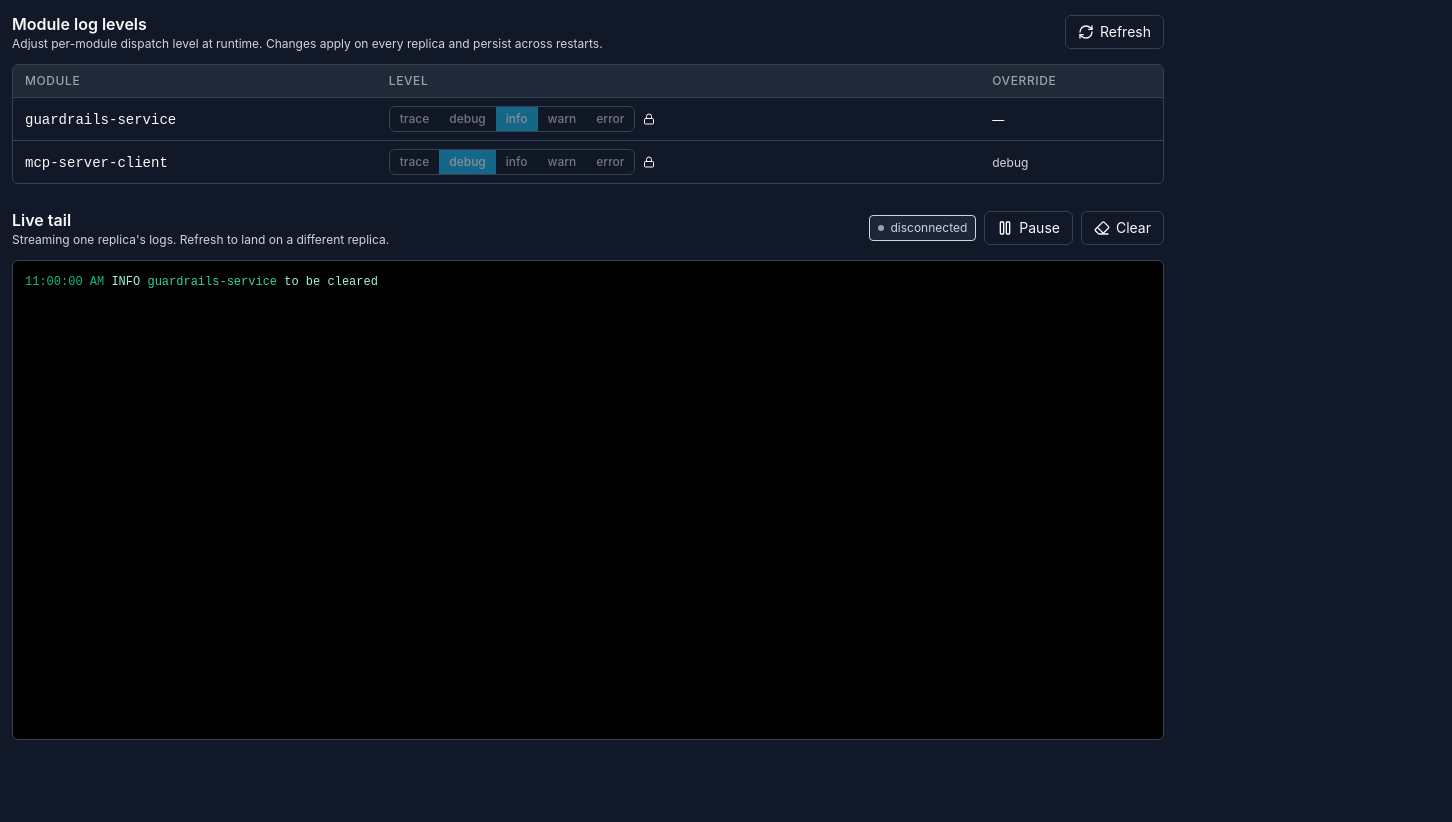
Test: SystemLogsPane › clear button empties the viewport without closing the socket
The image size is (1452, 822).
Expected: the text "to be cleared" is shown, 284,275 -> 378,289
Click the button with test id "system-logs-clear". click: click(1122, 228)
box: 1081,211 -> 1164,245
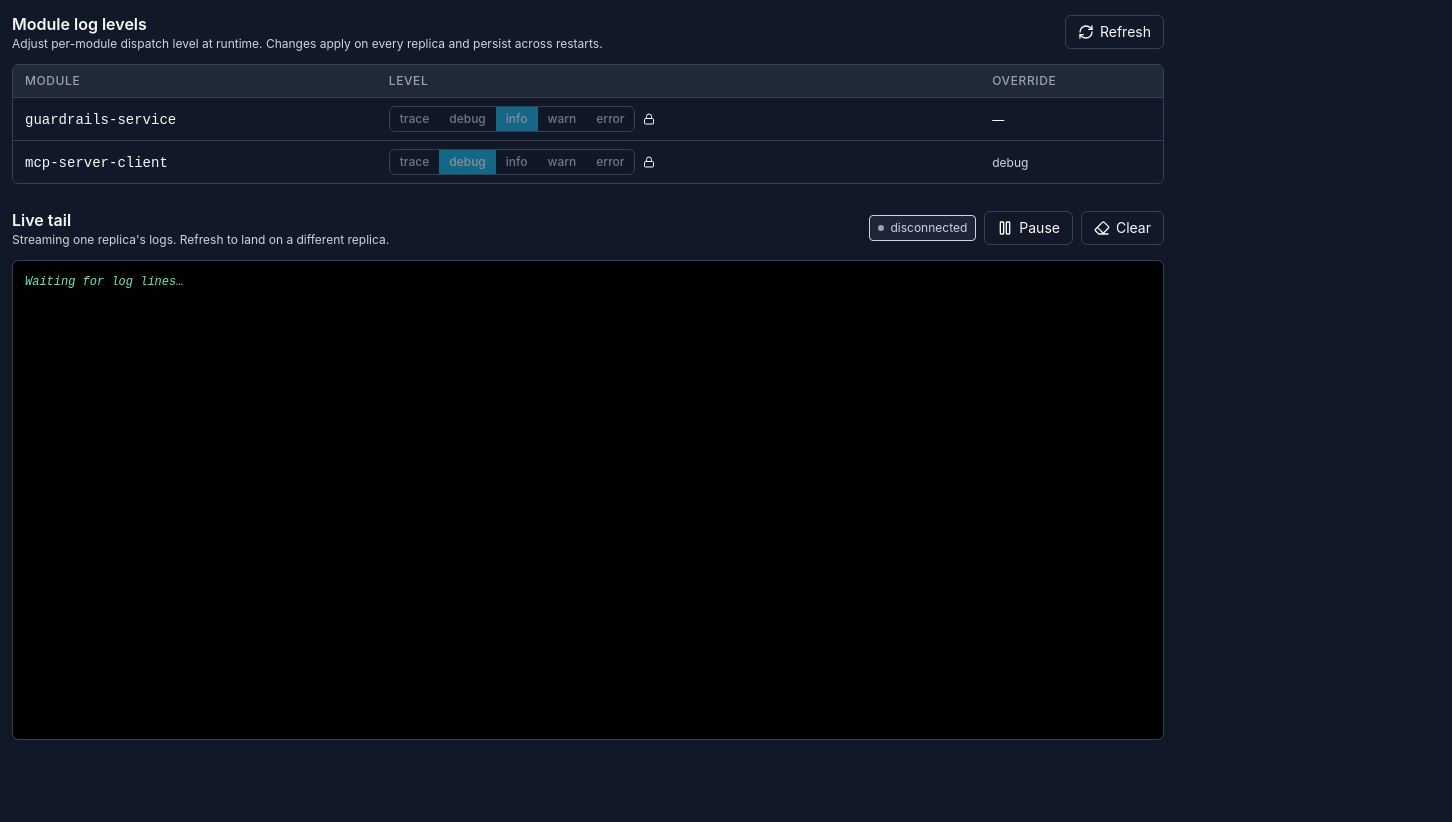
Expected: the text "to be cleared" is gone
